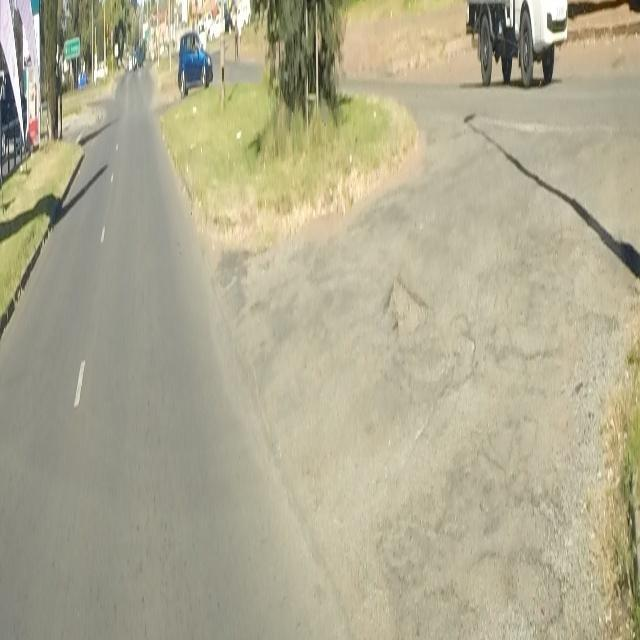pothole: (379, 266, 429, 348)
